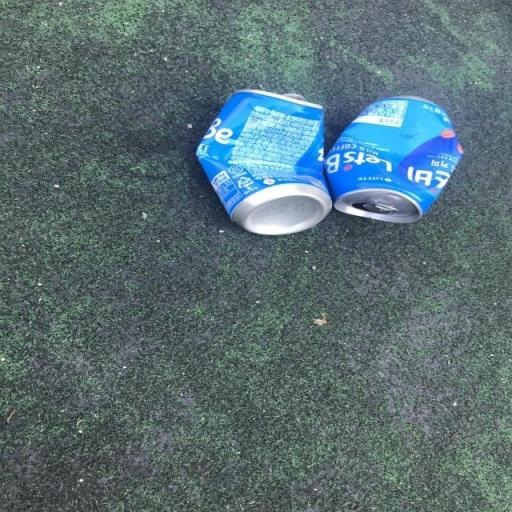metal: (316, 78, 491, 252), (171, 69, 326, 257)
